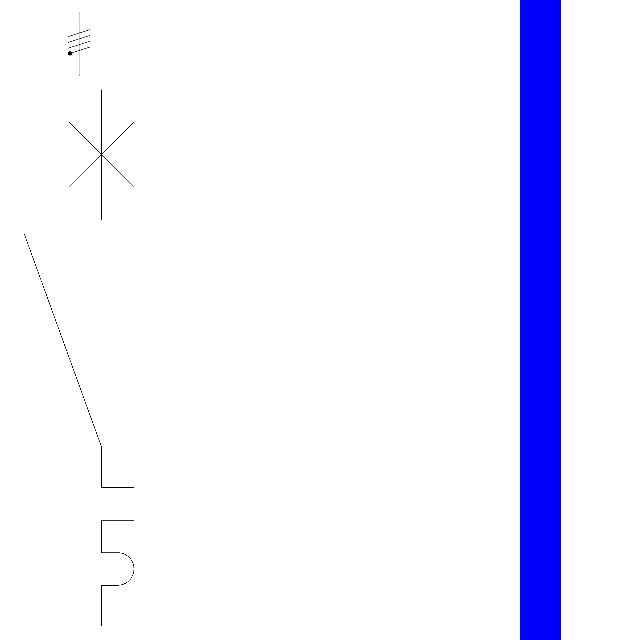interruptor_termomagnetico: (10, 75, 148, 640)
